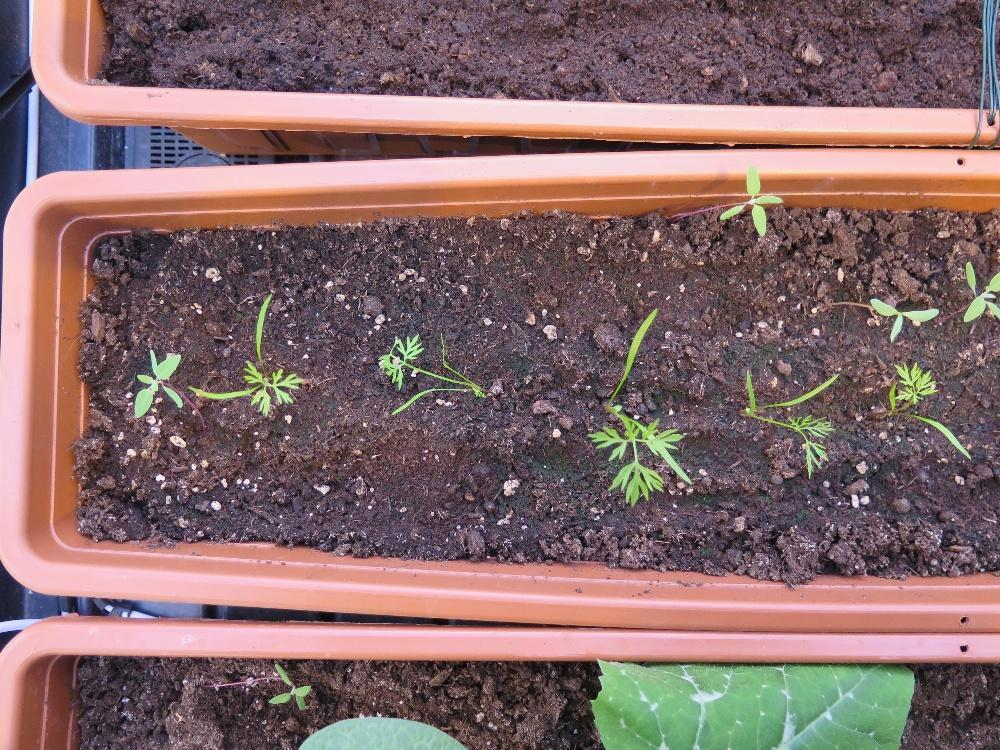crop: (585, 300, 693, 509), (187, 289, 305, 419), (740, 369, 840, 479), (374, 328, 490, 420), (886, 358, 972, 460)
weed: (717, 162, 784, 237), (132, 341, 182, 420), (867, 295, 939, 344), (266, 660, 311, 711)
